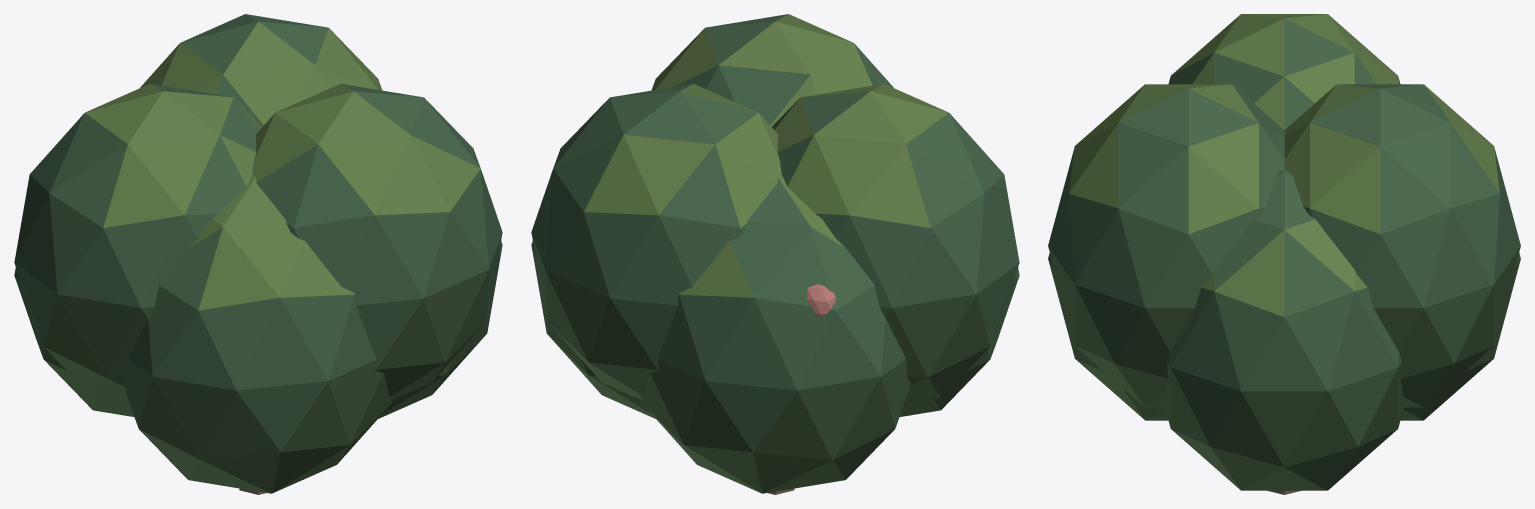
The model's file is SM_QD_Veg_Camellia.fbx.
3 views of the same model, side by side, from view 1: azimuth 30°, elevation 25°; view 2: azimuth 150°, elevation 25°; view 3: azimuth 270°, elevation 25° (orthographic).
Parts seen in each view (by area): view 1: SM_QD_Veg_Camellia; view 2: SM_QD_Veg_Camellia; view 3: SM_QD_Veg_Camellia.
Boxes of the visible parts, x1,y1,x2,y2 form: SM_QD_Veg_Camellia: (14, 14, 502, 494); SM_QD_Veg_Camellia: (531, 14, 1019, 494); SM_QD_Veg_Camellia: (1048, 14, 1520, 494).
Size of the model in its own units: 1.73 by 1.58 by 1.55.
Materials: 1 (1 with a texture image).
